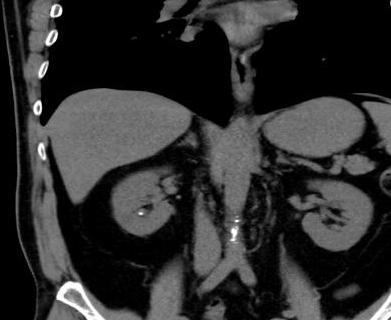Tas_Var: (137, 210, 146, 217)
